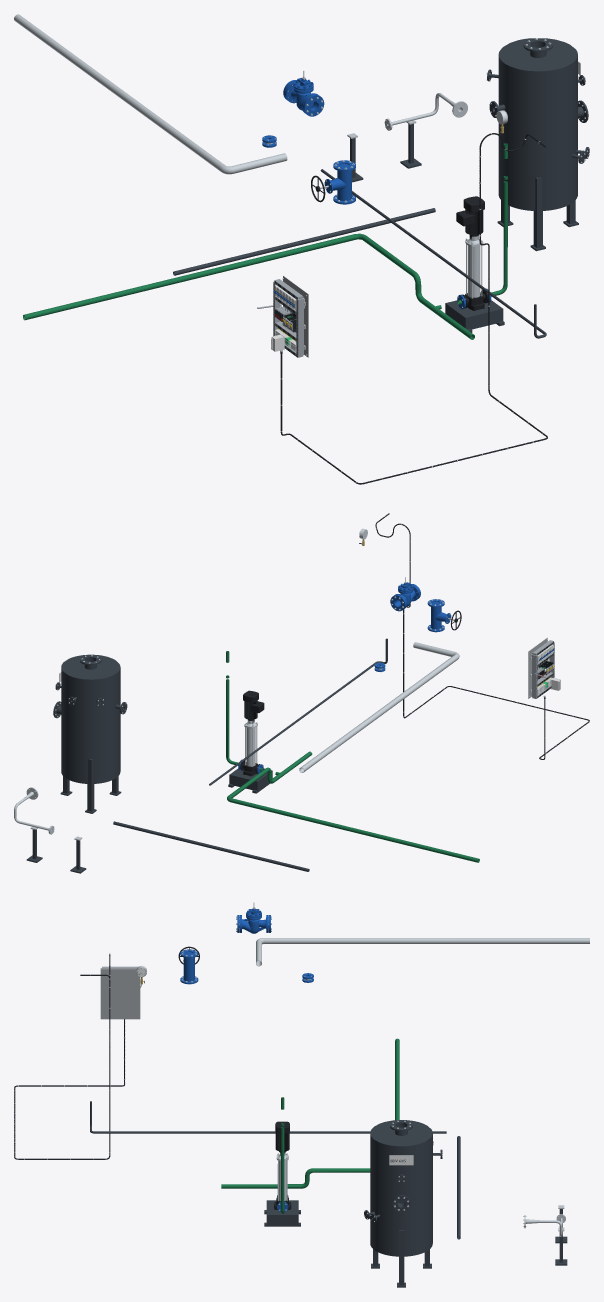
The picture shows the model from 3 angles, top to bottom: view 1: azimuth 30°, elevation 25°; view 2: azimuth 150°, elevation 25°; view 3: azimuth 270°, elevation 25°; orthographic projection. The views are drawn at different scales.
Visible parts, largest first — view 1: separator_bdv60_5 / dark, suction_common / green, safety_vent_1 / steel, cabinet_interior / cabinet_interior_0.npz, wiring_pressure_switch_1 / black, bottom_discharge / dark, pump_branch_2 / dark, tds_common / dark, steam_manual / blue, pump_2 CAD solid 15, pump_branch_2 / green, gpz CAD solid 0 (+2 smaller); view 2: separator_bdv60_5 / dark, suction_common / green, safety_vent_1 / steel, cabinet_interior / cabinet_interior_0.npz, wiring_pressure_switch_1 / black, bottom_discharge / dark, tds_common / dark, pump_branch_2 / dark, steam_manual / blue, pump_2 CAD solid 15; view 3: separator_bdv60_5 / dark, cabinet_interior / cabinet_interior_0.npz, safety_vent_1 / steel, suction_common / green, wiring_pressure_switch_1 / black, tds_common / dark, pump_branch_2 / dark, gpz CAD solid 0.
Boxes of the visible parts, bbox=[...] form: separator_bdv60_5 / dark: bbox=[487, 38, 589, 251]; suction_common / green: bbox=[23, 233, 474, 339]; safety_vent_1 / steel: bbox=[14, 14, 287, 174]; cabinet_interior / cabinet_interior_0.npz: bbox=[257, 276, 308, 357]; wiring_pressure_switch_1 / black: bbox=[280, 133, 547, 484]; bottom_discharge / dark: bbox=[173, 208, 435, 275]; pump_branch_2 / dark: bbox=[445, 300, 504, 332]; tds_common / dark: bbox=[320, 169, 546, 338]; steam_manual / blue: bbox=[324, 160, 355, 204]; pump_2 CAD solid 15: bbox=[456, 196, 484, 235]; pump_branch_2 / green: bbox=[436, 143, 507, 309]; gpz CAD solid 0: bbox=[285, 70, 317, 112]; separator_bdv60_5 / dark: bbox=[53, 654, 127, 813]; suction_common / green: bbox=[227, 751, 479, 862]; safety_vent_1 / steel: bbox=[299, 642, 459, 772]; cabinet_interior / cabinet_interior_0.npz: bbox=[528, 637, 554, 698]; wiring_pressure_switch_1 / black: bbox=[375, 513, 589, 759]; bottom_discharge / dark: bbox=[113, 821, 309, 871]; tds_common / dark: bbox=[209, 638, 387, 785]; pump_branch_2 / dark: bbox=[228, 768, 272, 793]; steam_manual / blue: bbox=[427, 599, 451, 632]; pump_2 CAD solid 15: bbox=[243, 690, 264, 720]; separator_bdv60_5 / dark: bbox=[364, 1120, 442, 1287]; cabinet_interior / cabinet_interior_0.npz: bbox=[100, 966, 141, 1019]; safety_vent_1 / steel: bbox=[256, 938, 589, 966]; suction_common / green: bbox=[221, 1038, 399, 1188]; wiring_pressure_switch_1 / black: bbox=[14, 953, 124, 1159]; tds_common / dark: bbox=[90, 1101, 446, 1133]; pump_branch_2 / dark: bbox=[264, 1200, 300, 1226]; gpz CAD solid 0: bbox=[239, 902, 268, 933].
Bounding box in the file's own units: 6.26 × 3.29 × 7.03.
